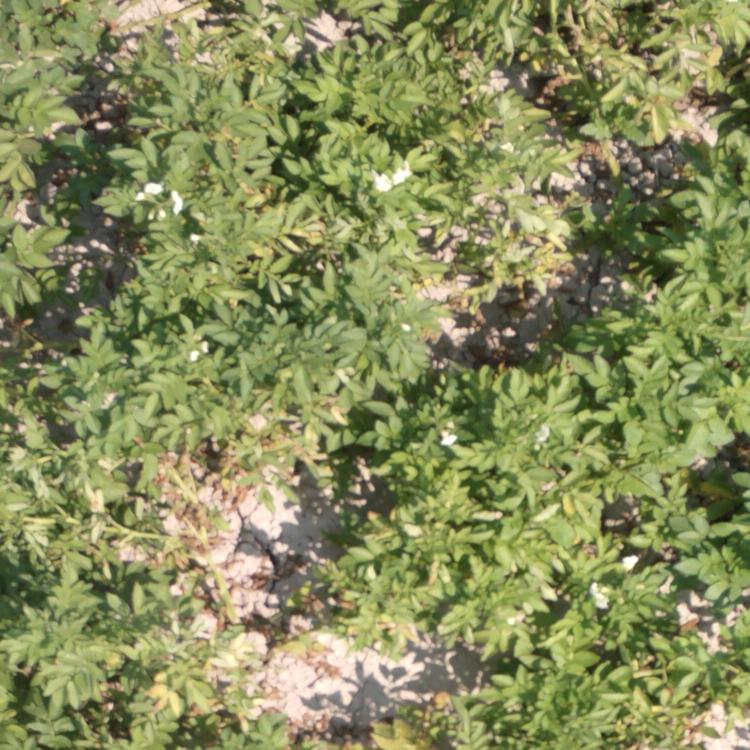healthy: (1, 1, 439, 299), (537, 161, 747, 749), (1, 300, 440, 447), (320, 462, 536, 647), (3, 452, 95, 740), (448, 347, 547, 462), (437, 161, 531, 241)
stressed: (441, 1, 737, 158), (117, 649, 486, 750), (109, 452, 283, 646)
